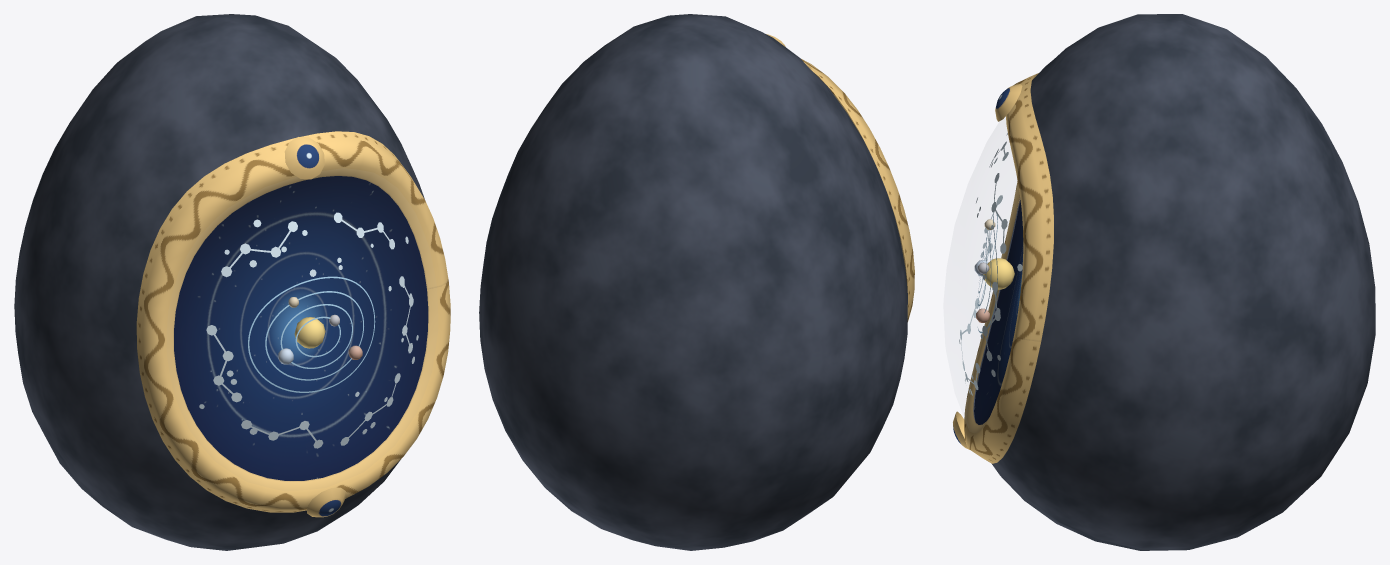
Rendered from lunar_wolf.fbx.
3 views of the same model, side by side, from view 1: azimuth 30°, elevation 25°; view 2: azimuth 150°, elevation 25°; view 3: azimuth 270°, elevation 25° (orthographic).
Parts seen in each view (by area): view 1: lunar_wolf_Shell, lunar_wolf_Glow_Stars, lunar_wolf_Glow_Orbits, lunar_wolf_Glow_Sun; view 2: lunar_wolf_Shell; view 3: lunar_wolf_Shell, lunar_wolf_Glow_Stars, lunar_wolf_Glow_Sun.
Boxes of the visible parts, <box> form: lunar_wolf_Shell: <box>14,14,450,550</box>; lunar_wolf_Glow_Stars: <box>199,212,418,448</box>; lunar_wolf_Glow_Orbits: <box>248,276,375,392</box>; lunar_wolf_Glow_Sun: <box>294,317,325,348</box>; lunar_wolf_Shell: <box>479,14,914,550</box>; lunar_wolf_Shell: <box>953,14,1375,550</box>; lunar_wolf_Glow_Stars: <box>959,133,1022,395</box>; lunar_wolf_Glow_Sun: <box>983,258,1014,289</box>.
Bounding box in the file's own units: 2.31 × 3 × 2.32.
Materials: 5 (1 with a texture image).
